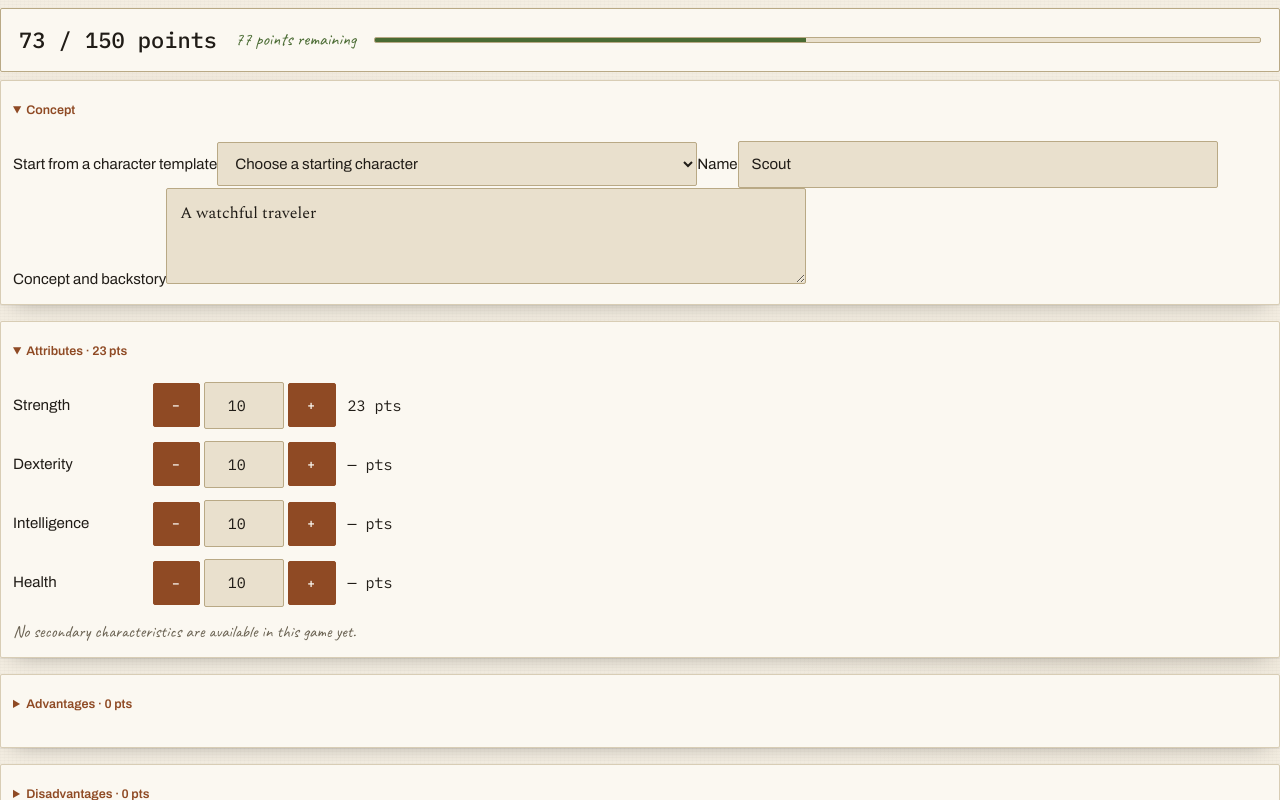
it: shows service totals, per-purchase costs and derived statistics; edits request a new preview
Expected: the text "73 / 150 points" is shown, [19,23,217,57]
Expected: the text "23 pts" is shown, [348,394,402,417]
Click the button named "Increase Strength". click: point(312, 405)
box: [288,383,336,427]
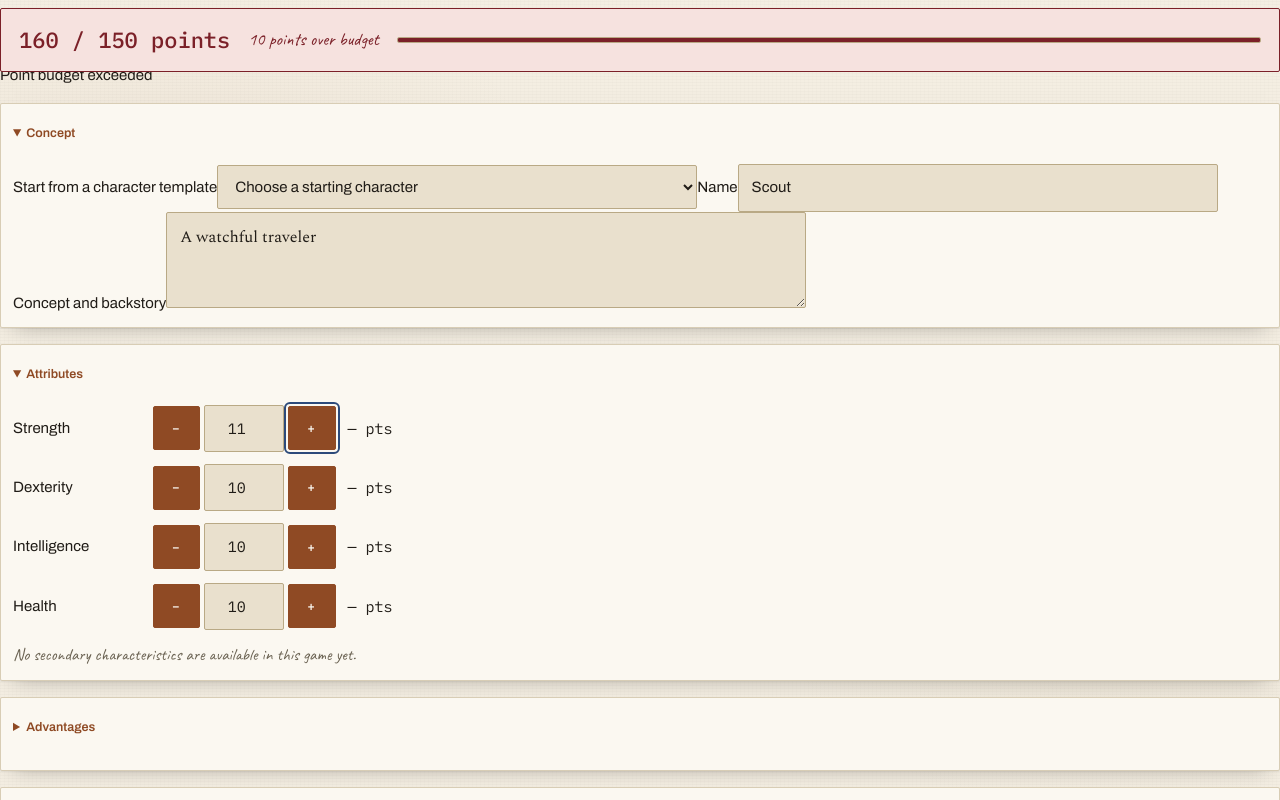
Now the text "73 / 150 points" is gone
Now the text "160 / 150 points" is shown, box [19,23,230,57]
Now the text "10 points over budget" is shown, box [248,26,379,54]
